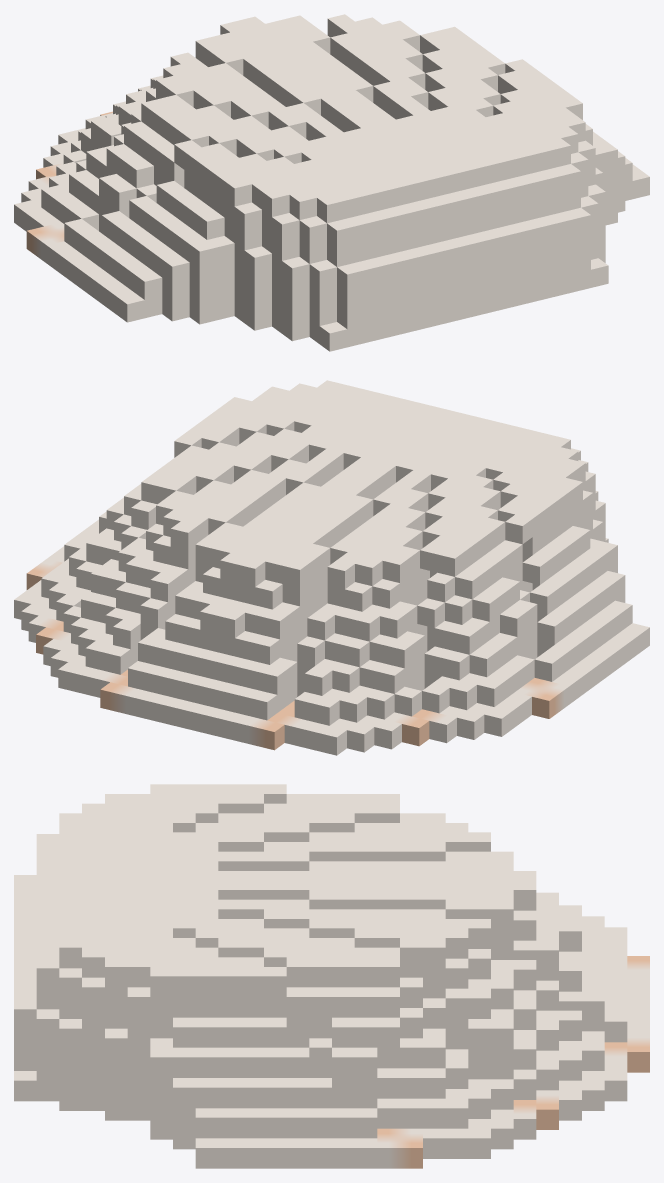
File: ShieldShell.fbx
3 views of the same model, one above another, from view 1: azimuth 30°, elevation 25°; view 2: azimuth 150°, elevation 25°; view 3: azimuth 270°, elevation 25° (orthographic). The views are drawn at different scales.
Visible parts, largest first — view 1: ShieldShell; view 2: ShieldShell; view 3: ShieldShell.
Part boxes in pixels (bbox=[...]): ShieldShell: bbox=[14, 14, 649, 351]; ShieldShell: bbox=[14, 380, 649, 755]; ShieldShell: bbox=[14, 784, 649, 1168].
Bounding box in the file's own units: 30 × 7 × 28.
1 material, 1 textured.
